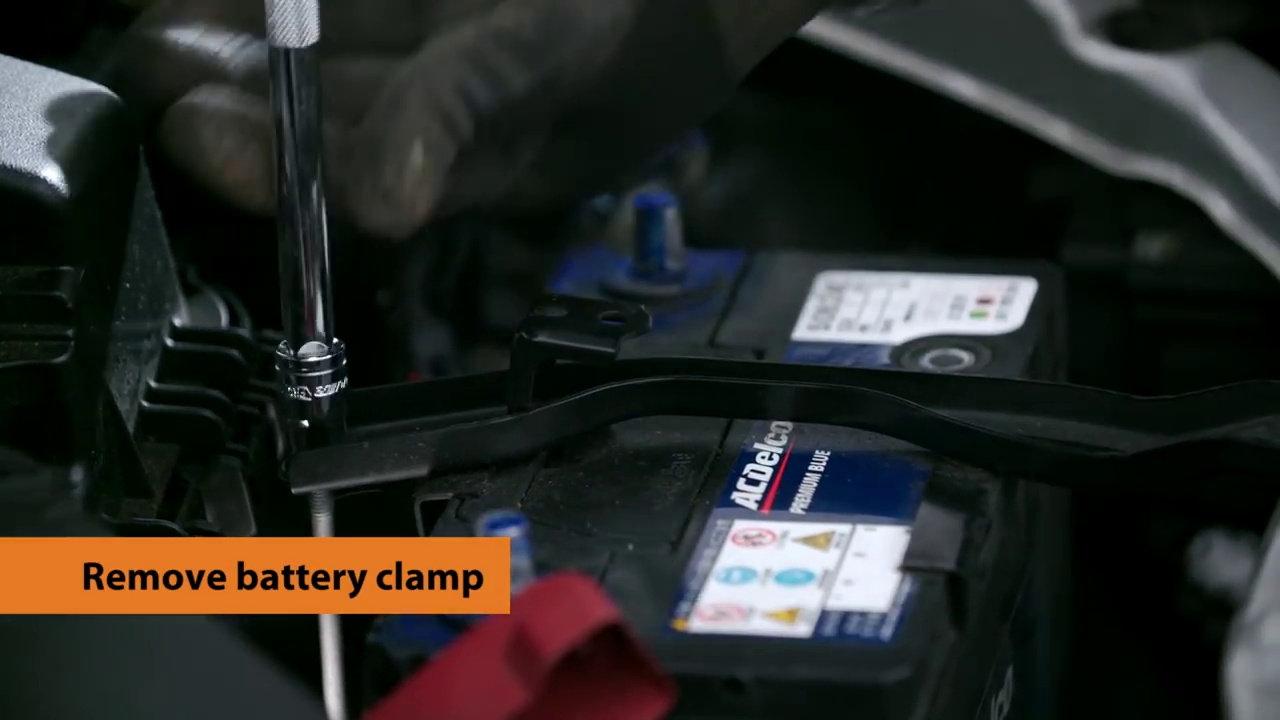battery: (358, 242, 1078, 692)
